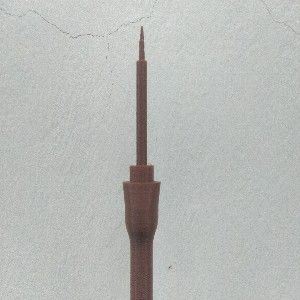solder: (122, 26, 162, 300)
